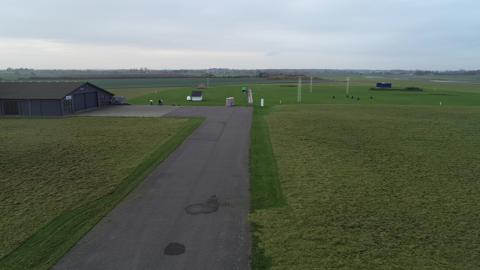RockwoolPallet: (226, 96, 233, 107)
